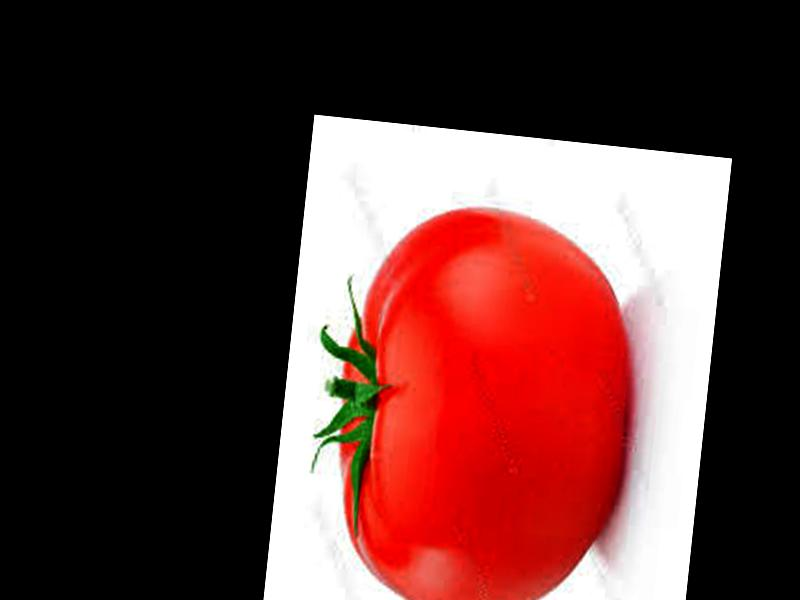Tomato: (320, 195, 640, 600)
